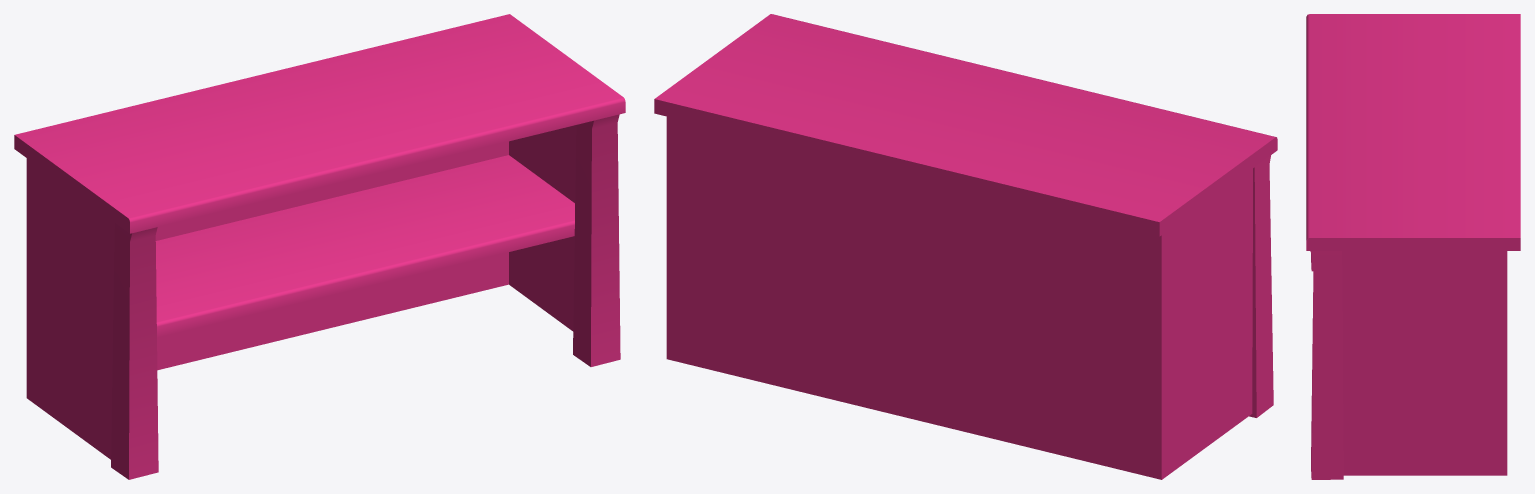
File: TV STANDING 1.glb
The picture shows the model from 3 angles, left to right: view 1: azimuth 30°, elevation 25°; view 2: azimuth 150°, elevation 25°; view 3: azimuth 270°, elevation 25°; orthographic projection. The views are drawn at different scales.
Parts seen in each view (by area): view 1: Prop_BookCase_Mid_A; view 2: Prop_BookCase_Mid_A; view 3: Prop_BookCase_Mid_A.
Part boxes in pixels (<box>): Prop_BookCase_Mid_A: <box>14,14,625,479</box>; Prop_BookCase_Mid_A: <box>654,14,1277,479</box>; Prop_BookCase_Mid_A: <box>1306,14,1520,479</box>.
Size of the model in its own units: 2 by 1.01 by 0.8089.
